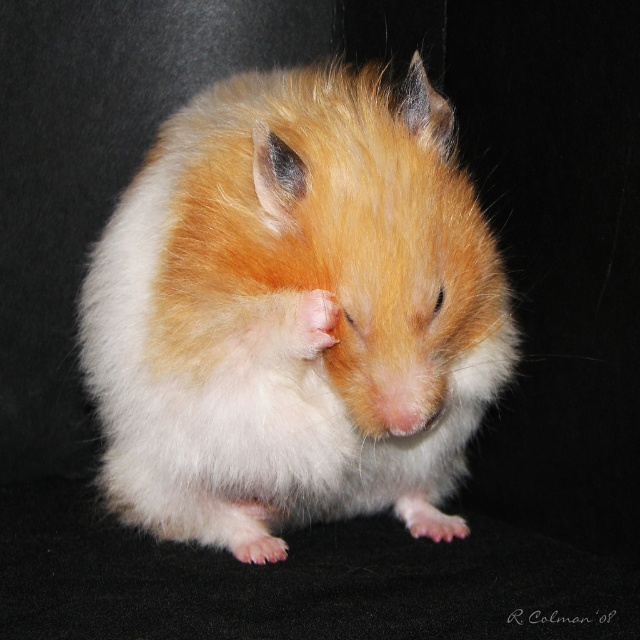Mouse: (61, 46, 519, 567)
